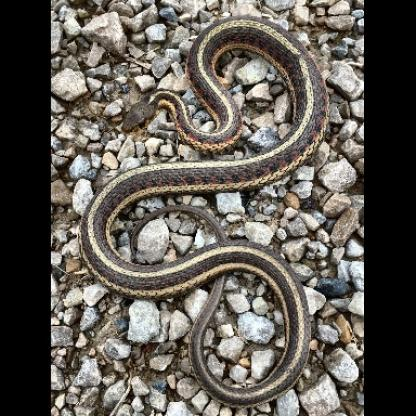Snake: (77, 14, 330, 406)
